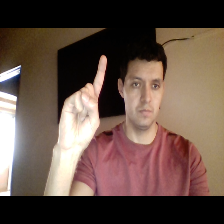2T: (54, 50, 115, 157)
